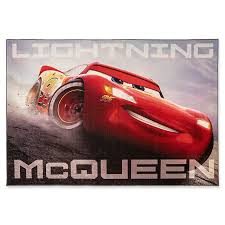mcqueen: (26, 60, 214, 166)
